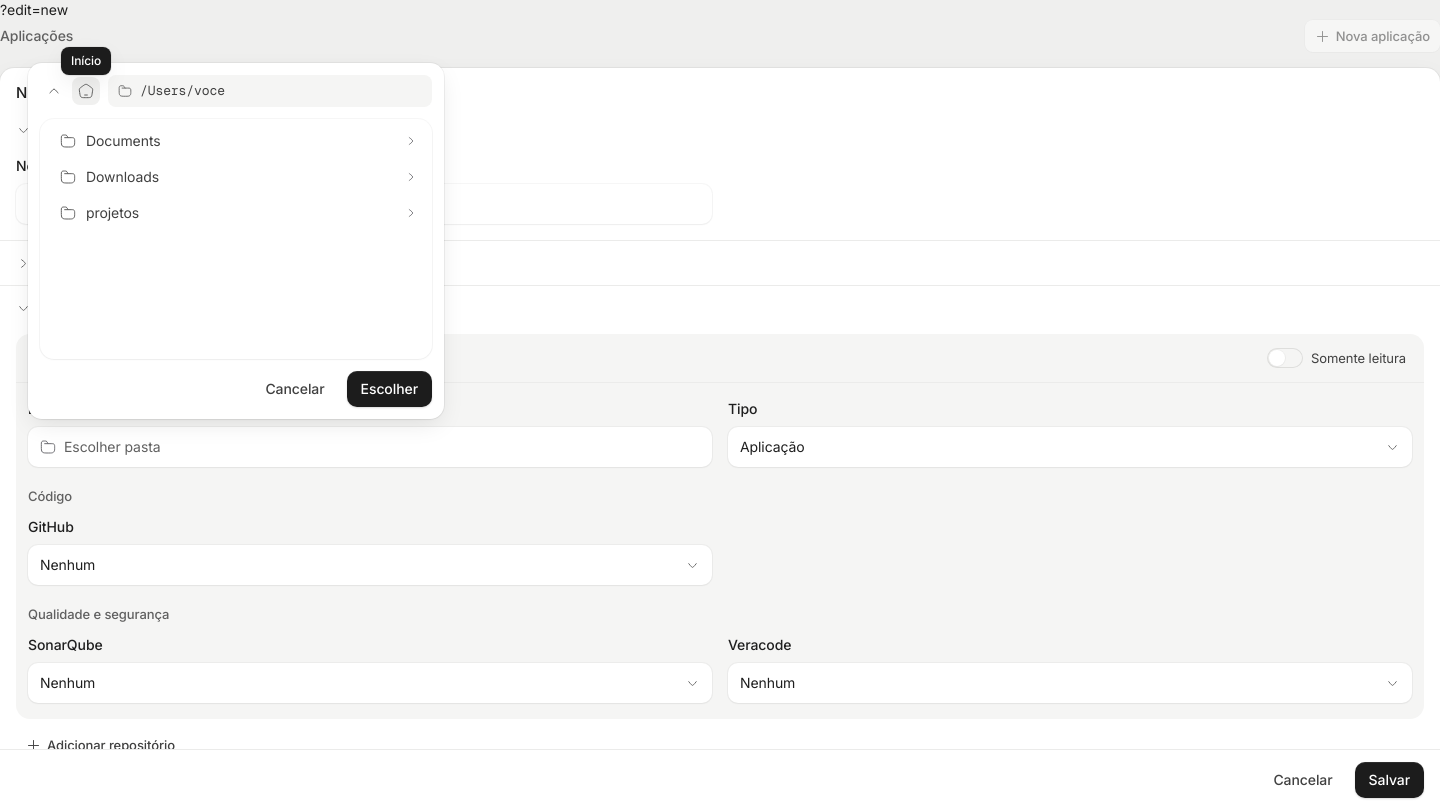
Test: aba Aplicações › lista, cria pela pasta com o repositório sugerido e remove
The width and height of the screenshot is (1440, 810).
Earlier steps of the test are not shown.
Later steps or results of the test are not shown.
Click the button "projetos".
click(113, 212)  # box [54,195,428,231]
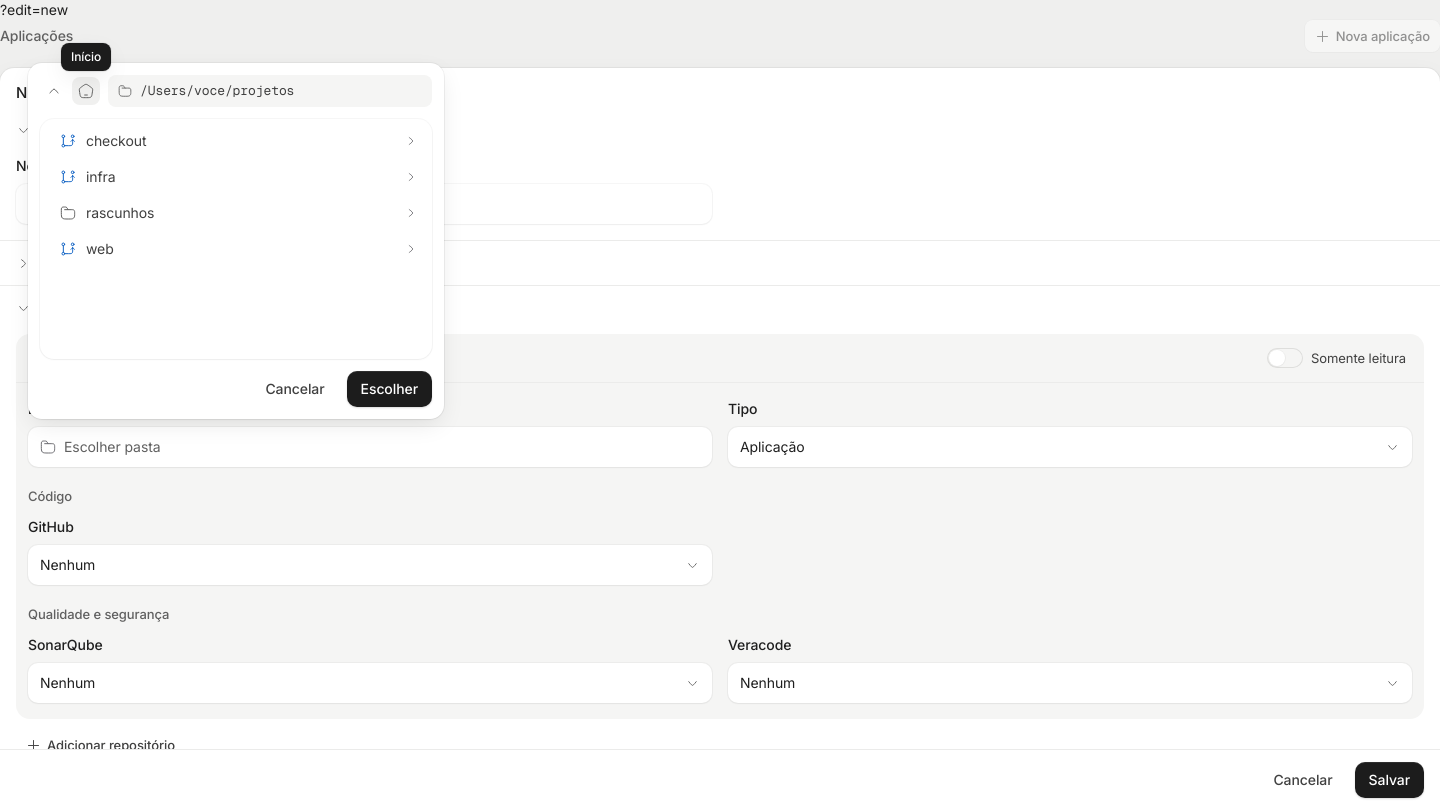
Click the button "web".
click(68, 249)  # box [54,231,428,267]
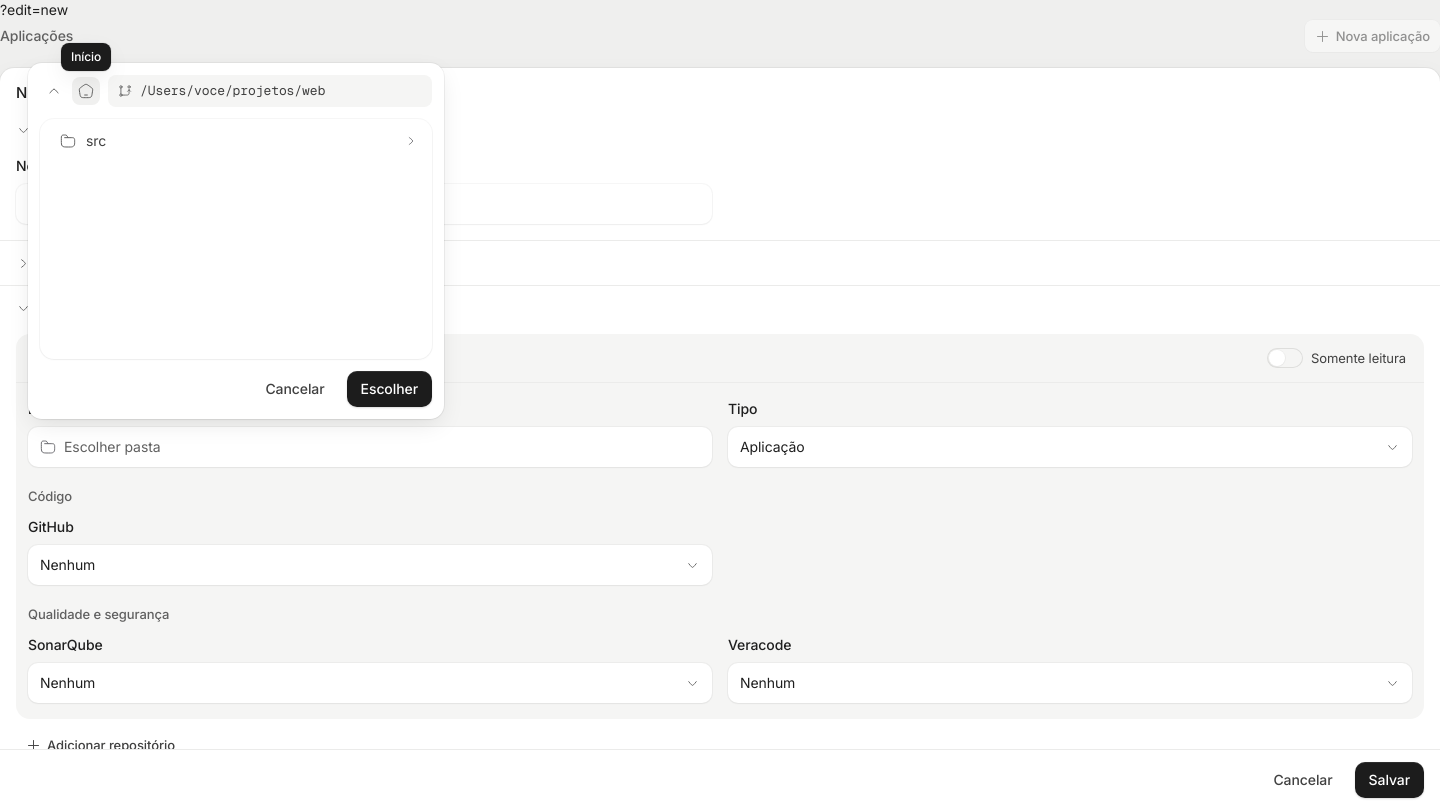
expect the text "src" is shown: met, box [86,132,106,149]
Click the button "Escolher".
click(389, 389)  # box [347,371,432,407]
(page scrolled)
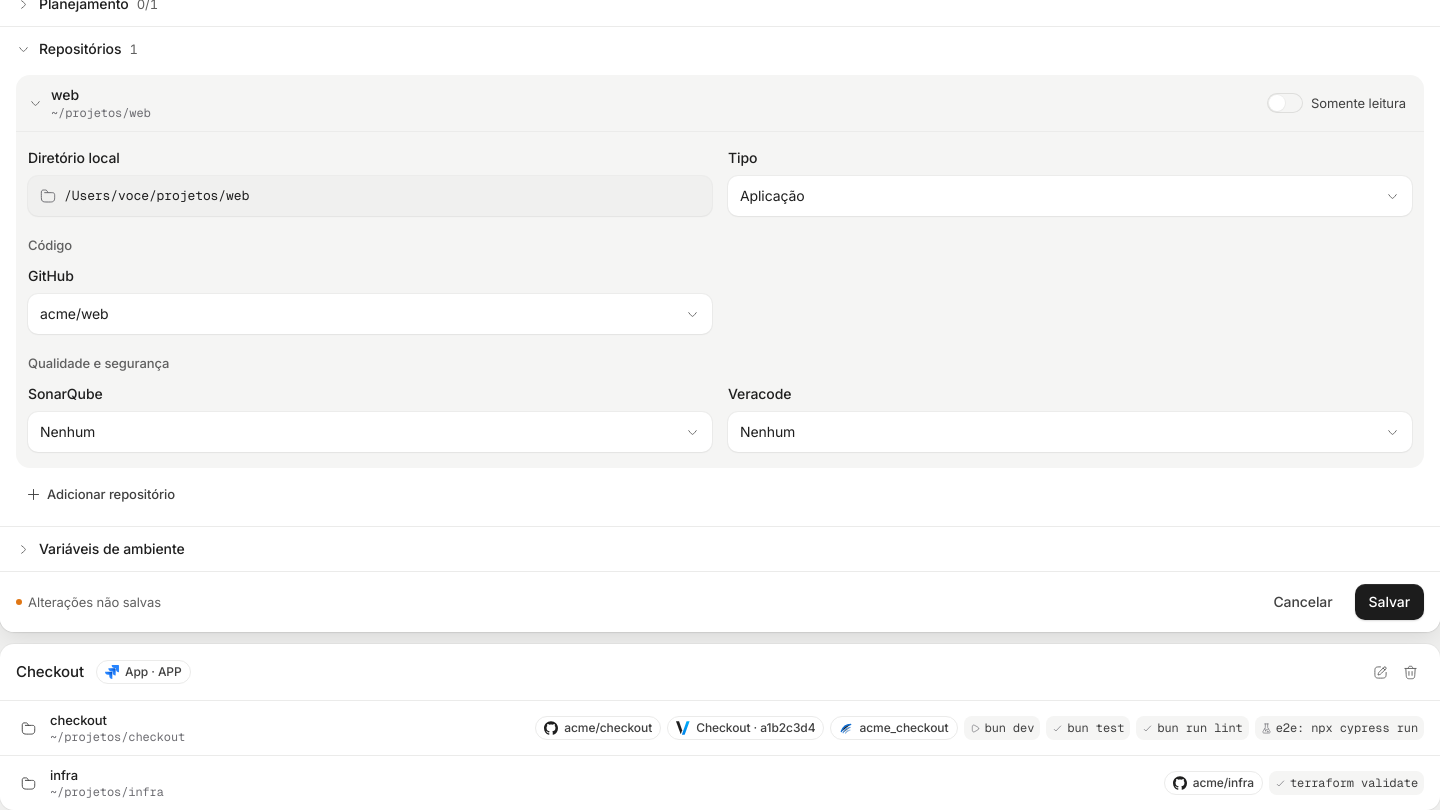
expect the dropdown named "Tipo" reads "Aplicação": met, box [728,176,1412,216]
expect the dropdown named "GitHub" reads "acme/web": met, box [28,294,712,334]
Click the button "Variáveis de ambiente".
click(112, 548)  # box [0,527,1439,571]
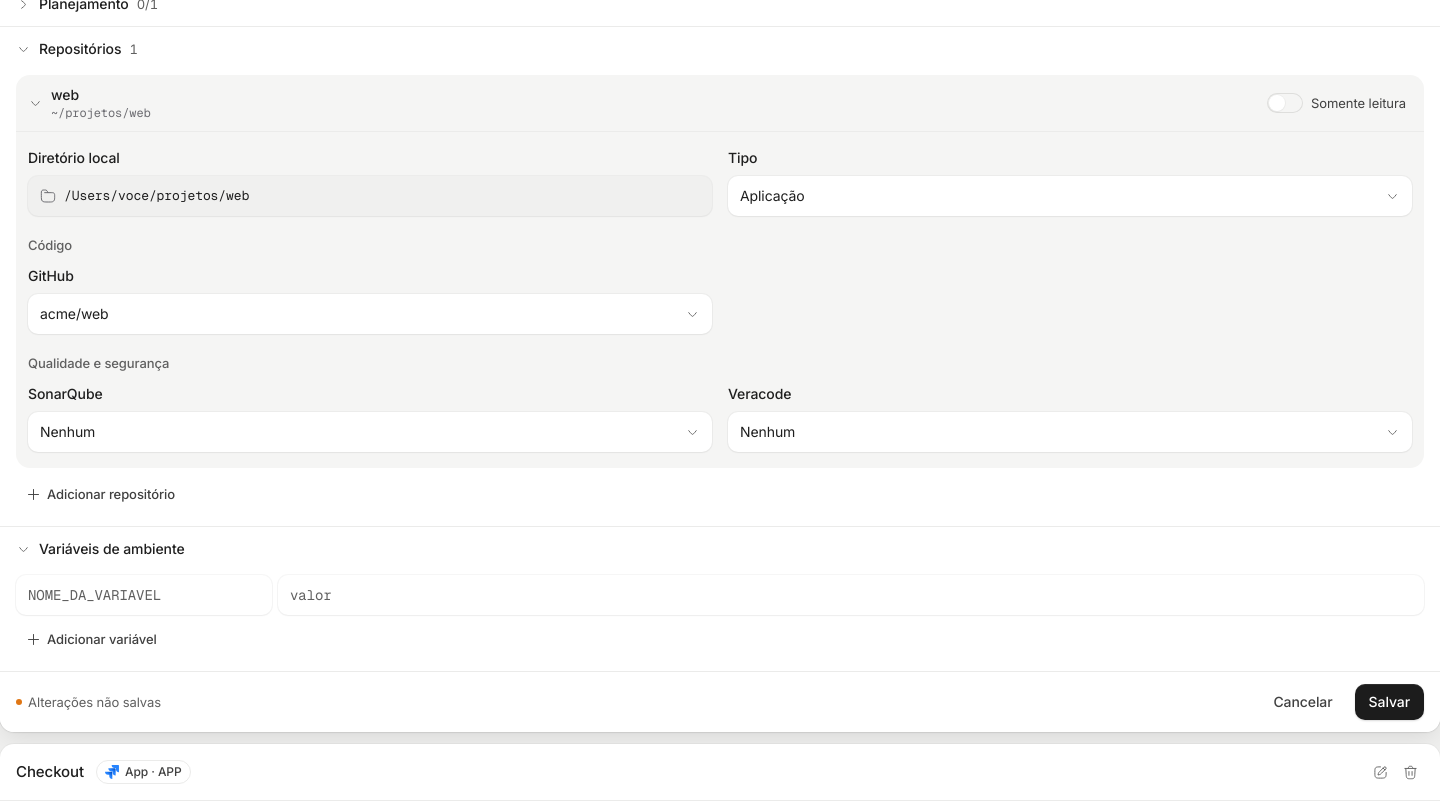
Type "CYPRESS_BASE_URL" into the field named "Nome 1".
click(144, 595); type("CYPRESS_BASE_URL")  # box [28,575,260,615]
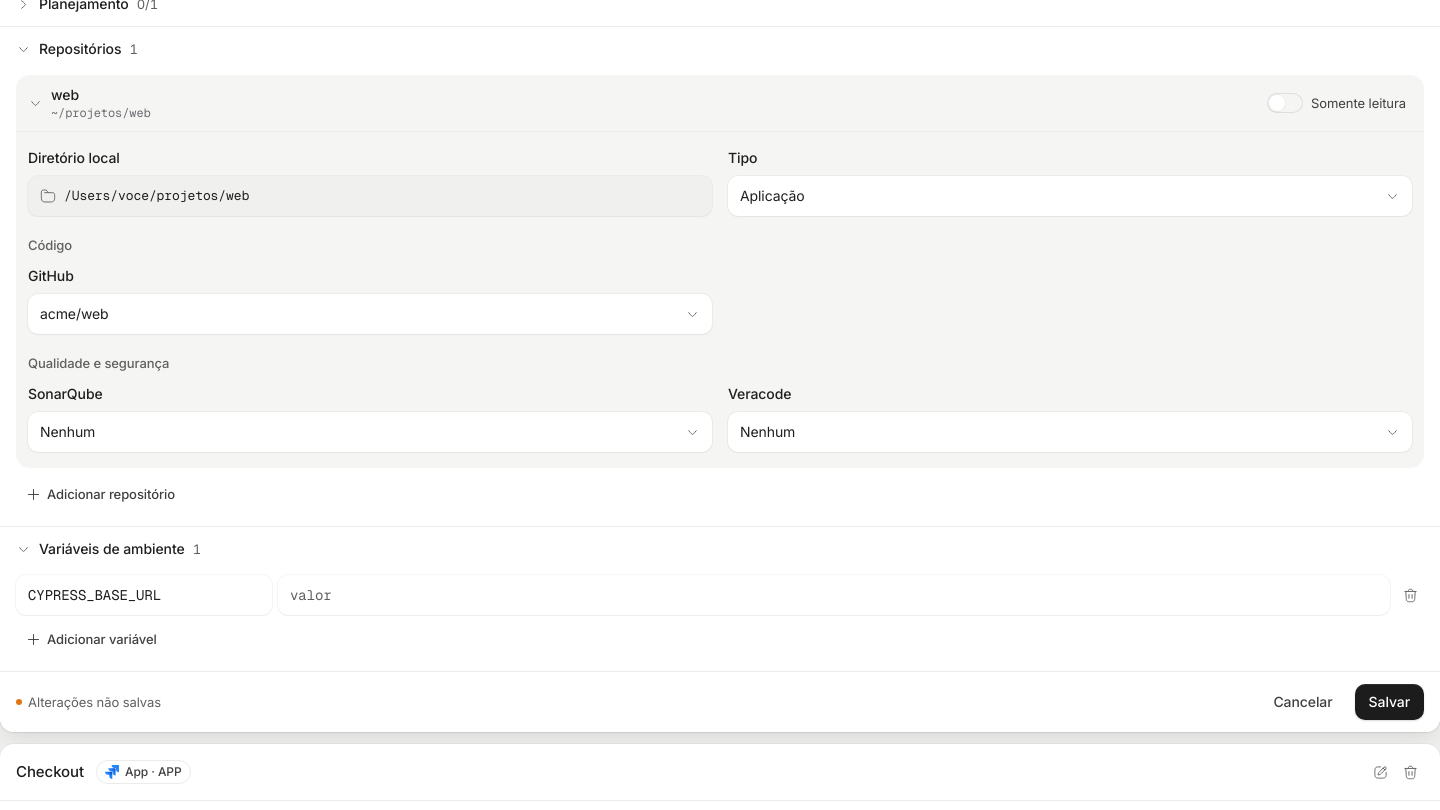
Type "http://localhost:3000" into the field named "Valor 1".
click(834, 595); type("http://localhost:3000")  # box [290,575,1378,615]
Click the button "Salvar".
click(1389, 702)  # box [1355,684,1424,720]
(page scrolled)
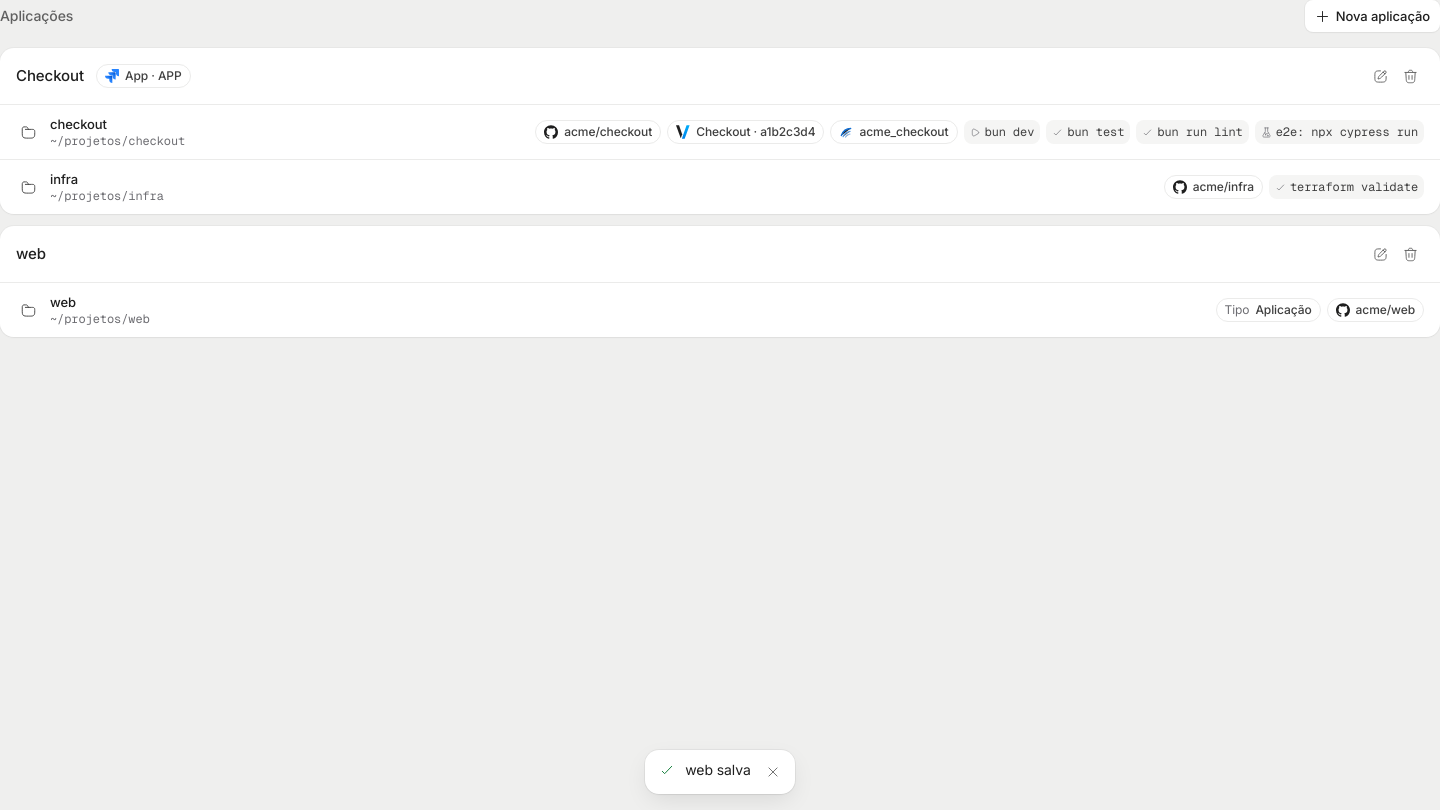
expect the button named "Remover web" is shown: met, box [1396,240,1424,268]
